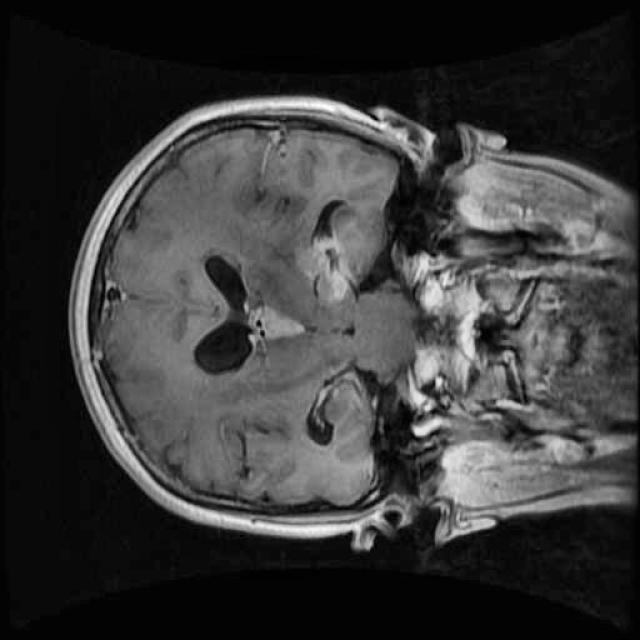Tumor: (236, 218, 372, 362)
